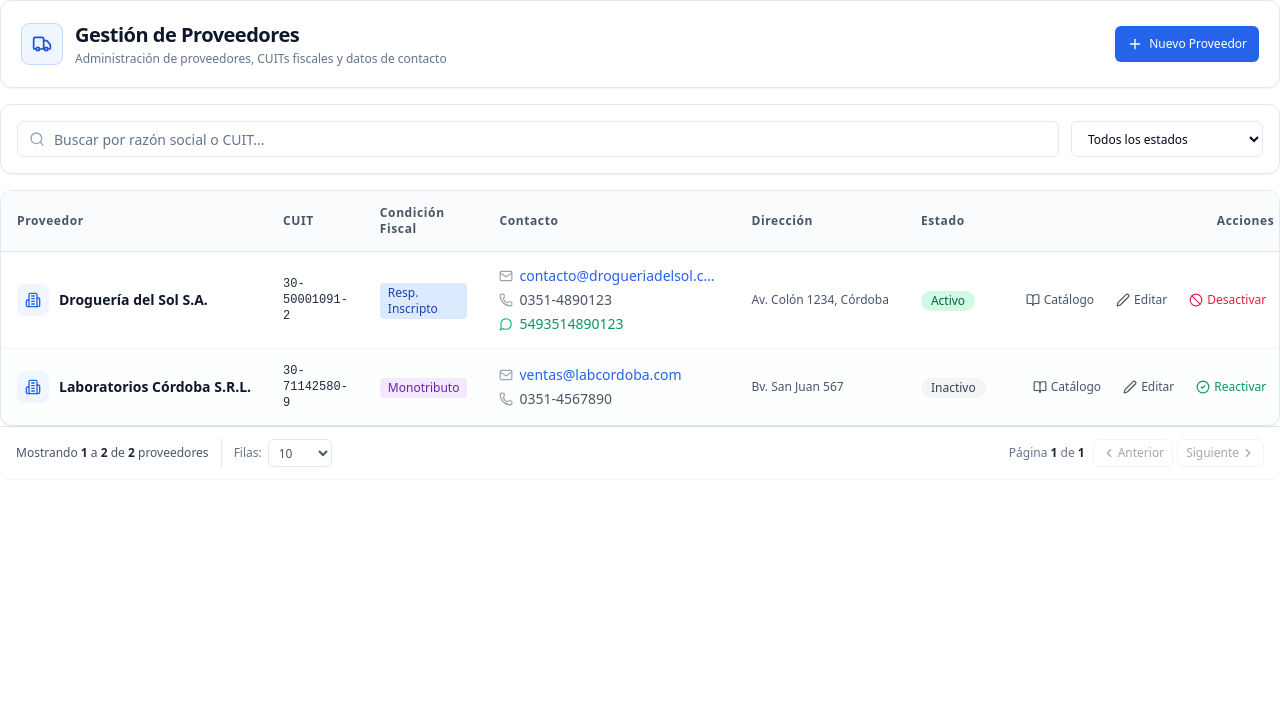
it: SuppliersPage Integration Suite › reactivates inactive supplier on button click
The image size is (1280, 720).
Expected: the text "Laboratorios Córdoba S.R.L." is shown, [59,377,251,397]
Click the button titled "Reactivar proveedor" at x=1231, y=387, box [1188,371,1274,403]
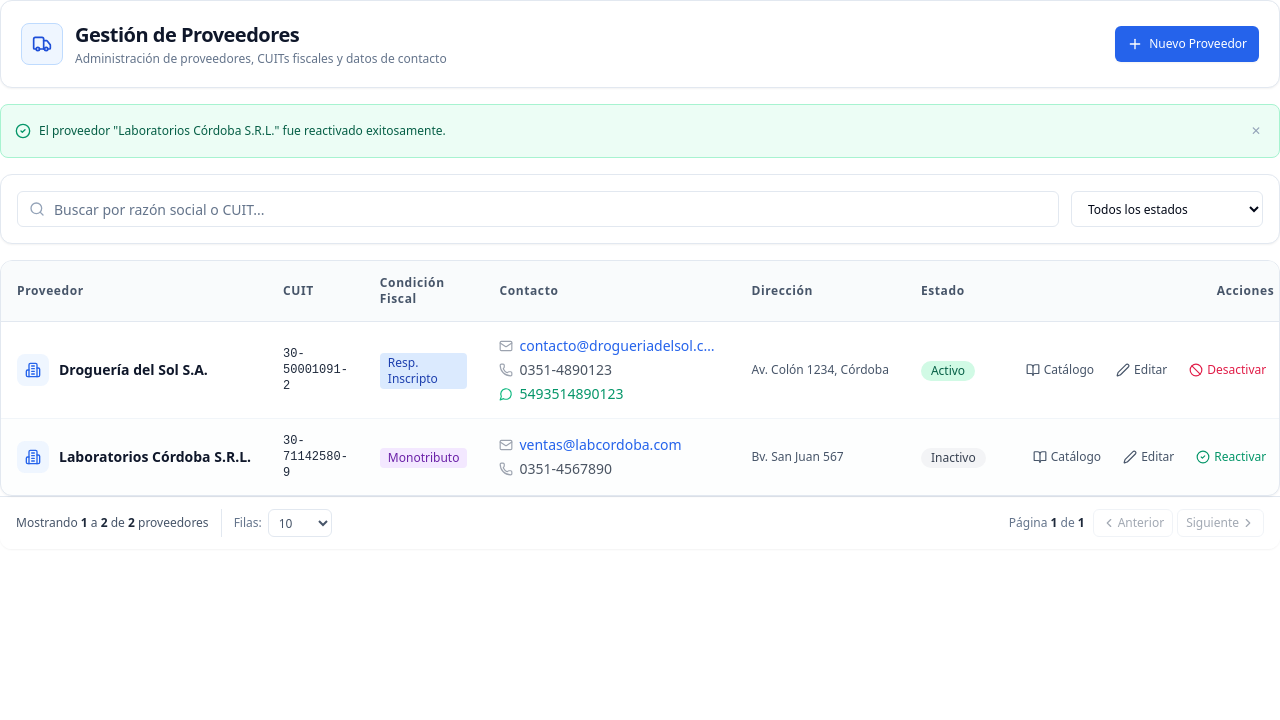
Now the text "fue reactivado exitosamente" is shown, box [39,122,446,139]
